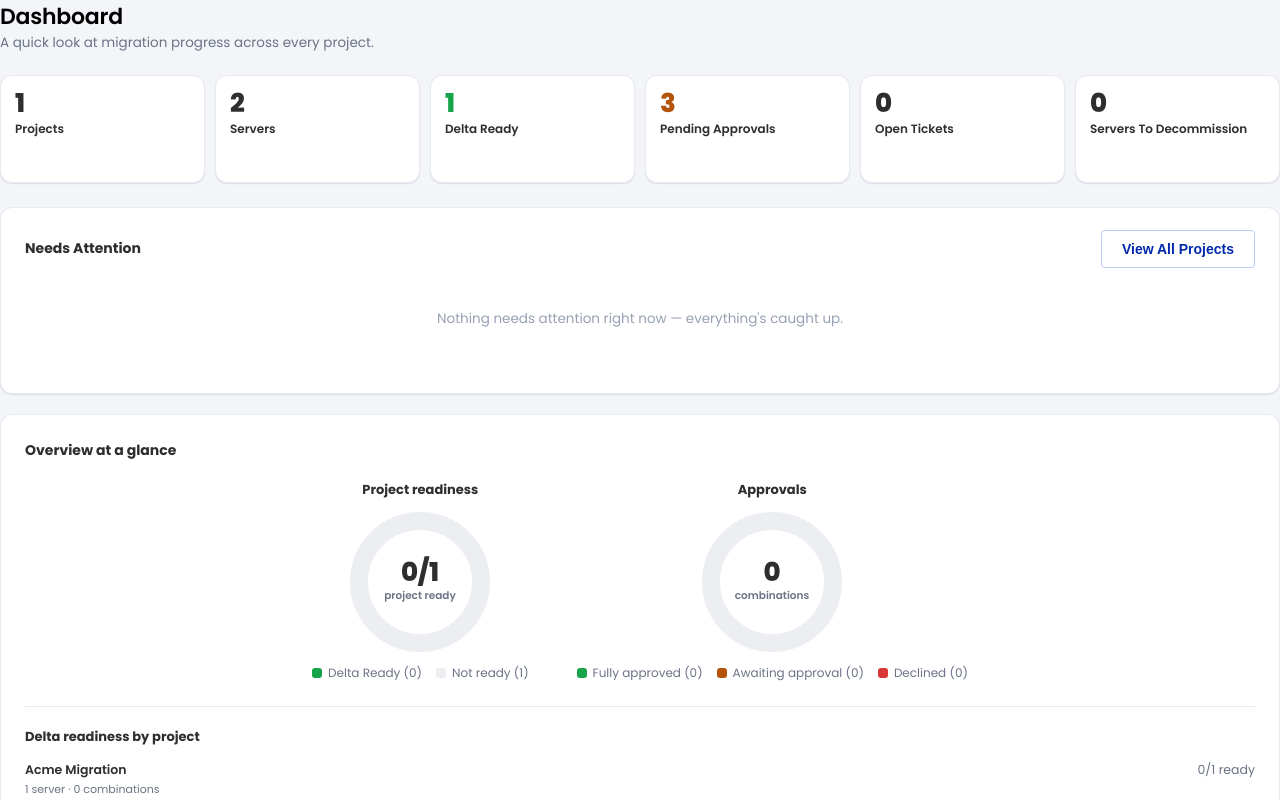
Test: Dashboard server popups › the Delta Ready tile lists only ready servers, and names which combinations are ready
The width and height of the screenshot is (1280, 800).
Expected: the heading "Dashboard" is shown, [0, 1, 123, 32]
Click the button "1 Delta Ready" at (532, 129), box [430, 75, 635, 183]
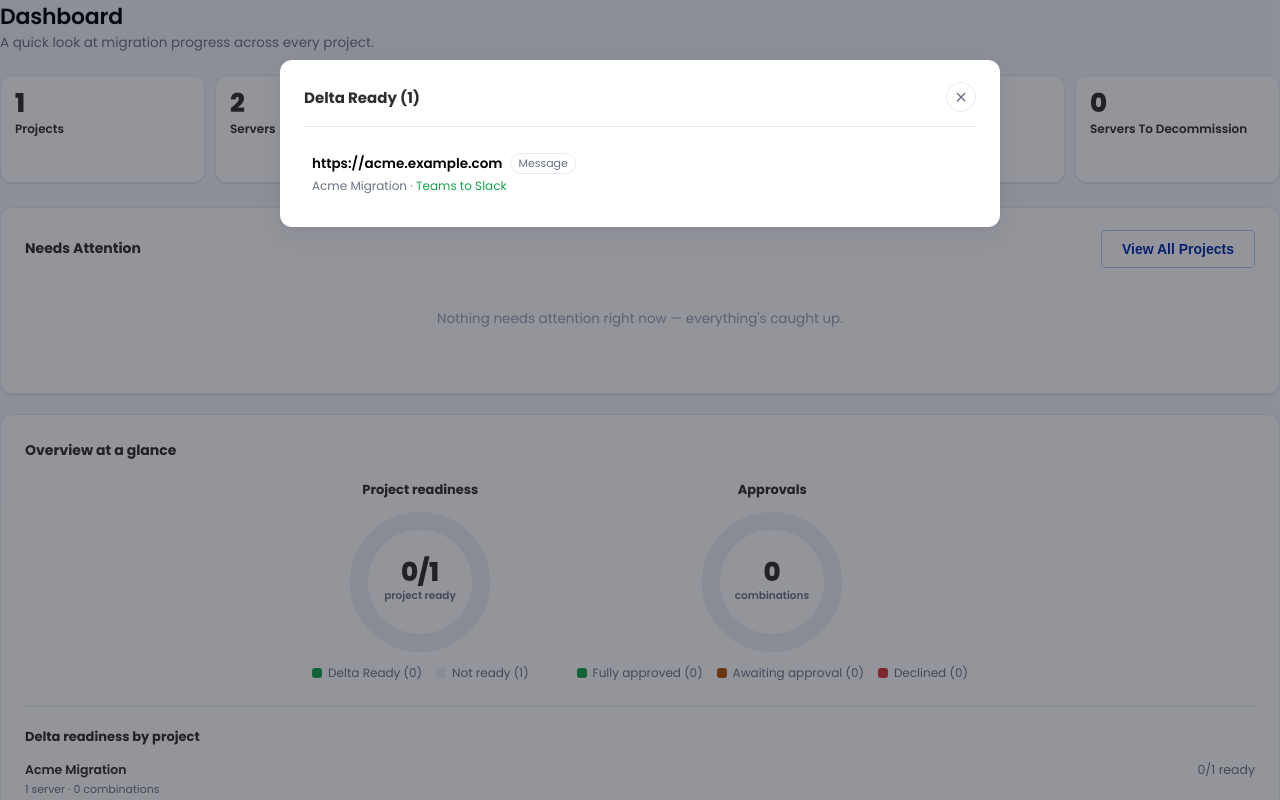
Expected: the text "https://acme.example.com" is shown, [312, 154, 502, 174]
Expected: the text "Teams to Slack" is shown, [407, 177, 507, 194]
